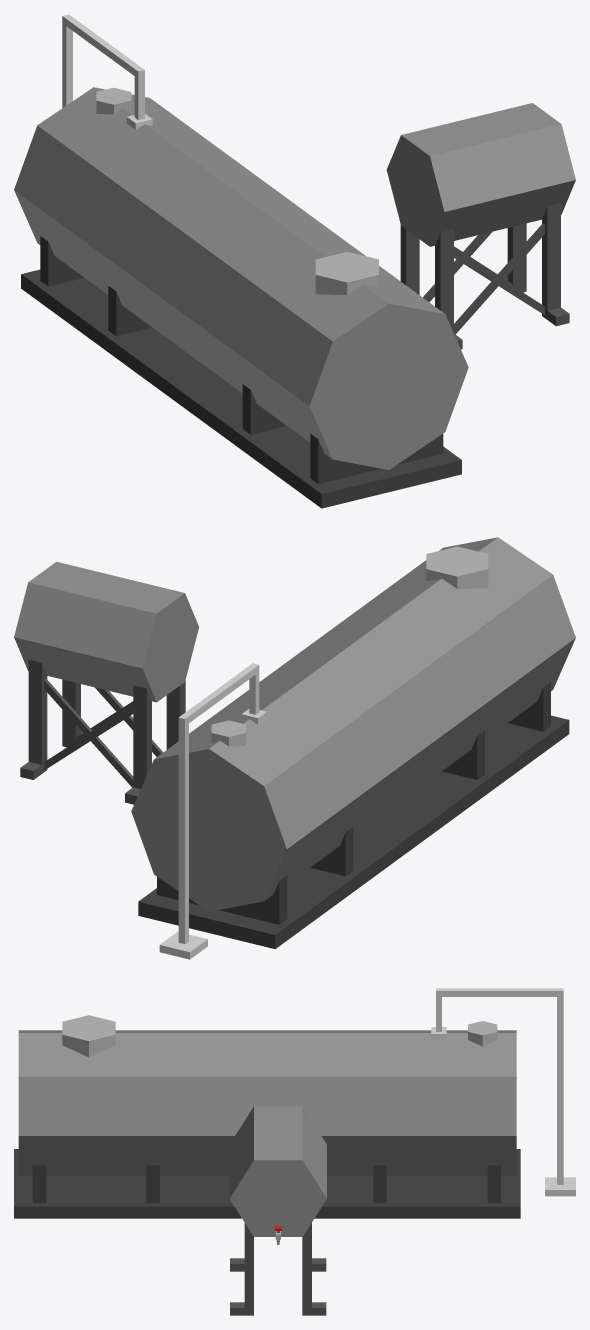
File: FuelTank.FBX
3 renders of one model, top to bottom at view 1: azimuth 30°, elevation 25°; view 2: azimuth 150°, elevation 25°; view 3: azimuth 270°, elevation 25°, orthographic. The views are drawn at different scales.
Parts seen in each view (by area): view 1: fuel_tank_large, fuel_tank_small; view 2: fuel_tank_large, fuel_tank_small; view 3: fuel_tank_large, fuel_tank_small.
Part boxes in pixels (x1,y1,x2,y2): fuel_tank_large: [14, 14, 468, 508]; fuel_tank_small: [386, 103, 575, 349]; fuel_tank_large: [131, 537, 575, 959]; fuel_tank_small: [14, 561, 198, 804]; fuel_tank_large: [14, 988, 575, 1218]; fuel_tank_small: [229, 1106, 326, 1315].
Size of the model in its own units: 827 by 464 by 1180.
